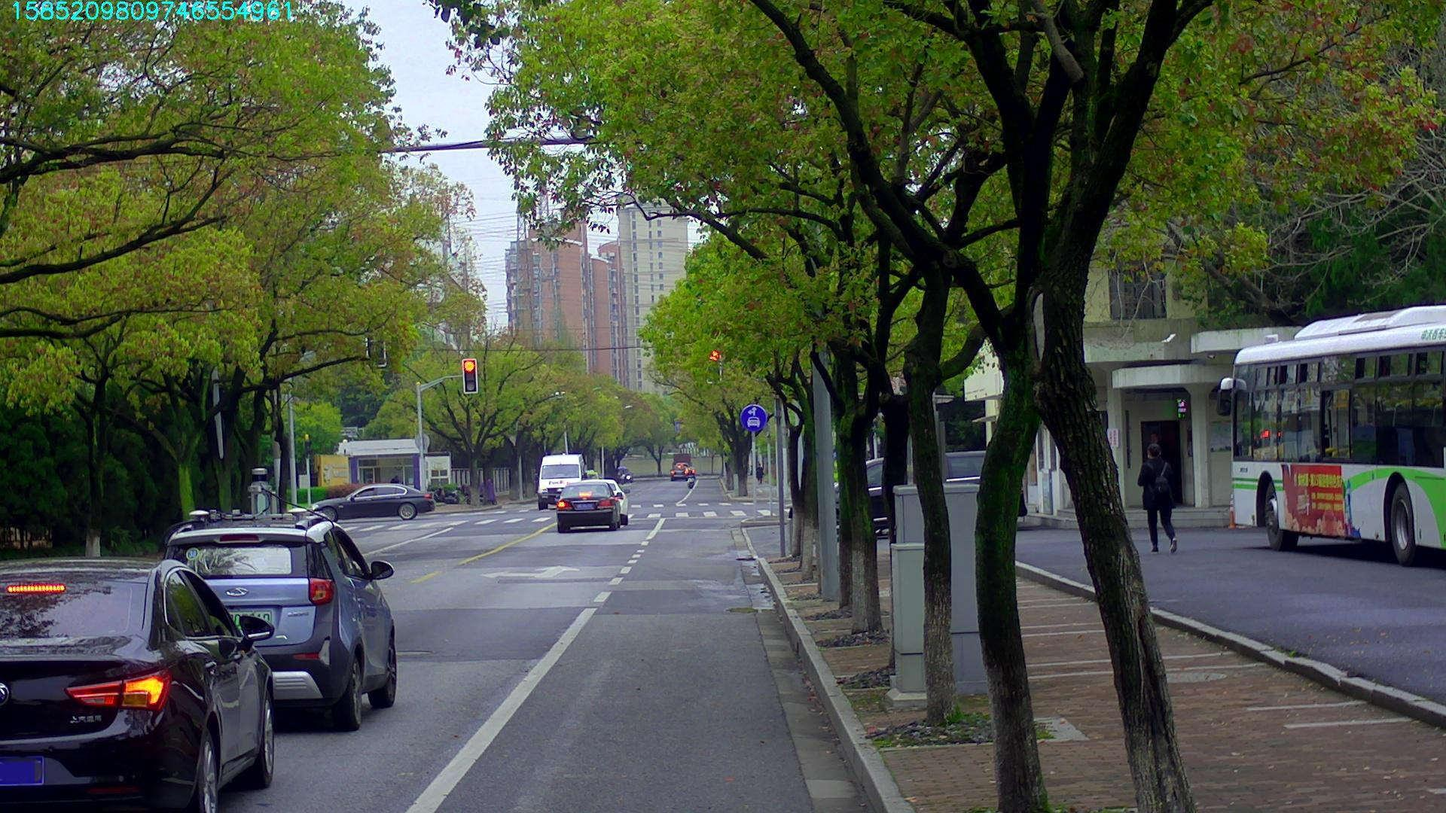red: (462, 358, 477, 391), (707, 349, 720, 380)
